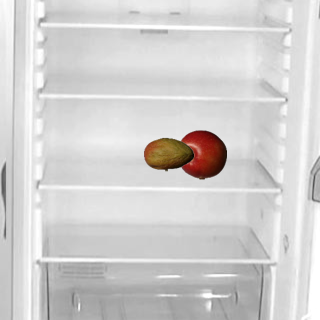Apple Braeburn: (176, 129, 226, 179)
Papaya: (143, 129, 193, 179)
